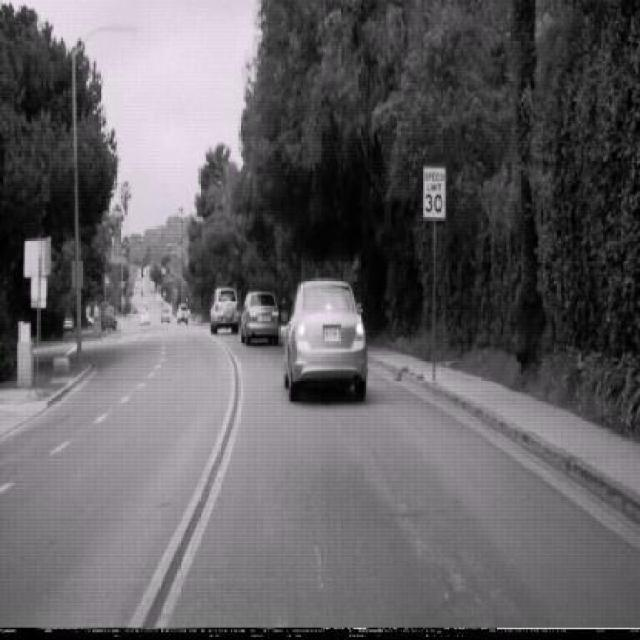speedLimit30: (425, 165, 446, 220)
